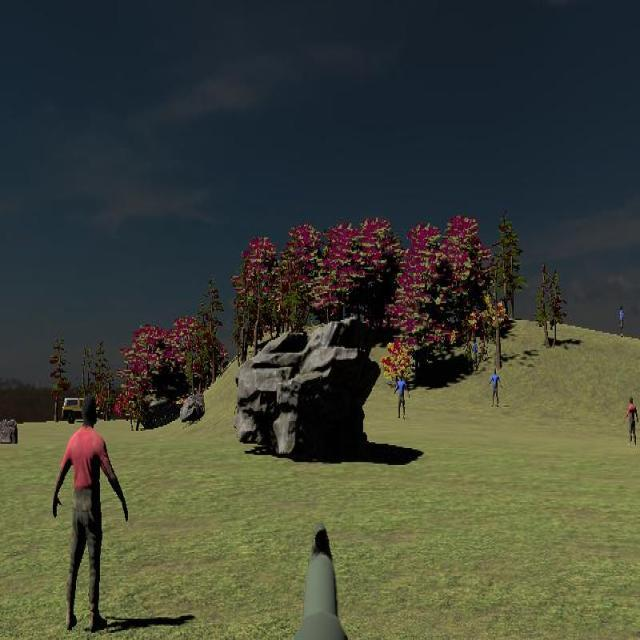Human: (52, 396, 128, 634), (394, 371, 410, 420), (624, 396, 639, 447), (489, 367, 503, 408)
